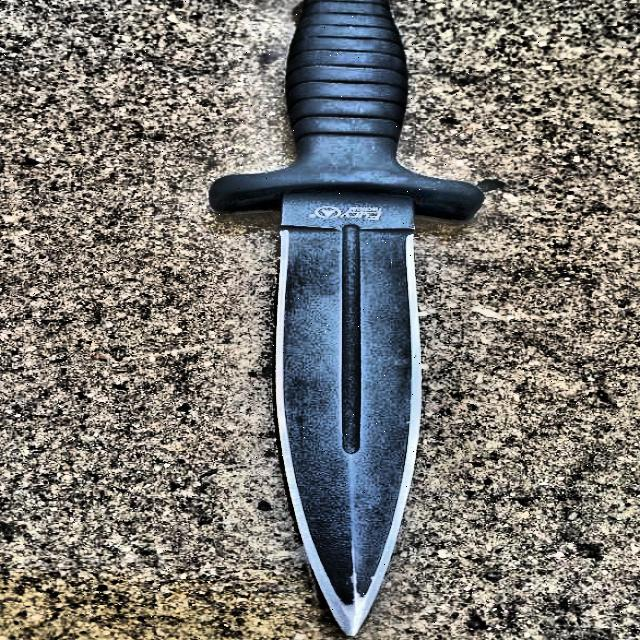knife: (213, 0, 502, 640)
